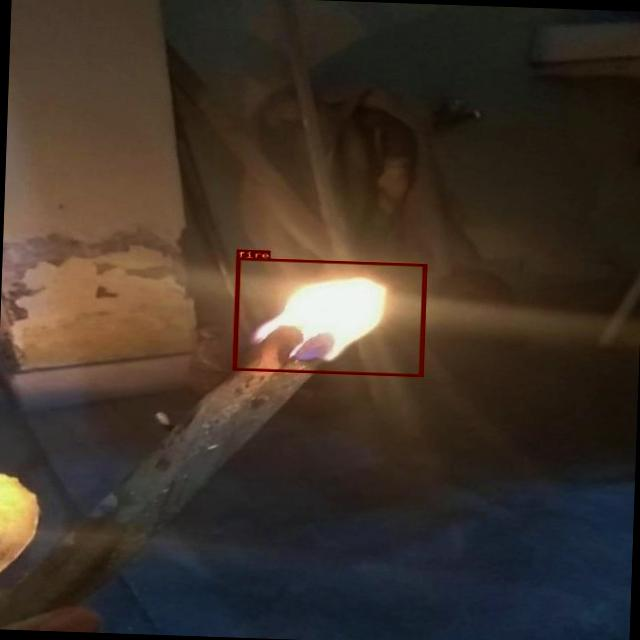fire: (232, 256, 426, 376)
